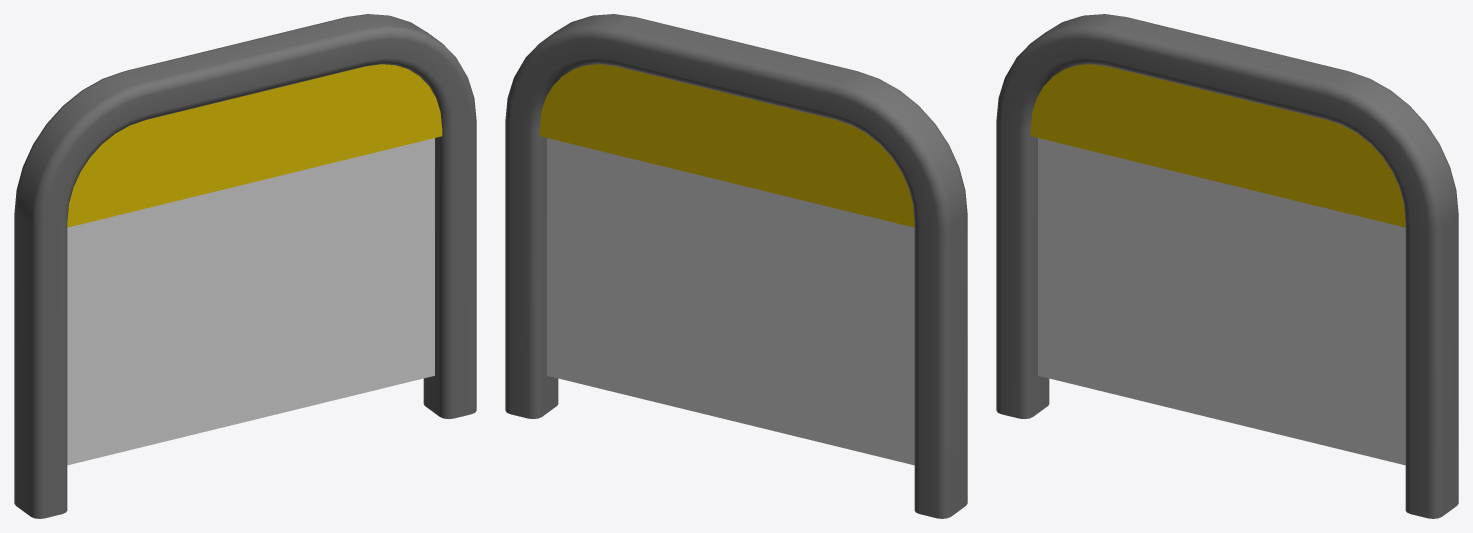
Rendered from Gate1.fbx.
3 renders of one model, left to right at view 1: azimuth 30°, elevation 25°; view 2: azimuth 150°, elevation 25°; view 3: azimuth 330°, elevation 25°, orthographic.
Visible parts, largest first — view 1: pCube464, pCube462, pCube463; view 2: pCube464, pCube462, pCube463; view 3: pCube464, pCube462, pCube463.
Boxes of the visible parts, x1,y1,x2,y2 form: pCube464: (67,138,434,465); pCube462: (14,14,476,518); pCube463: (67,64,442,227); pCube464: (547,138,914,465); pCube462: (505,14,967,518); pCube463: (539,64,914,227); pCube464: (1038,138,1405,465); pCube462: (996,14,1458,518); pCube463: (1030,64,1405,227).
Size of the model in its own units: 400 by 350 by 39.39.
